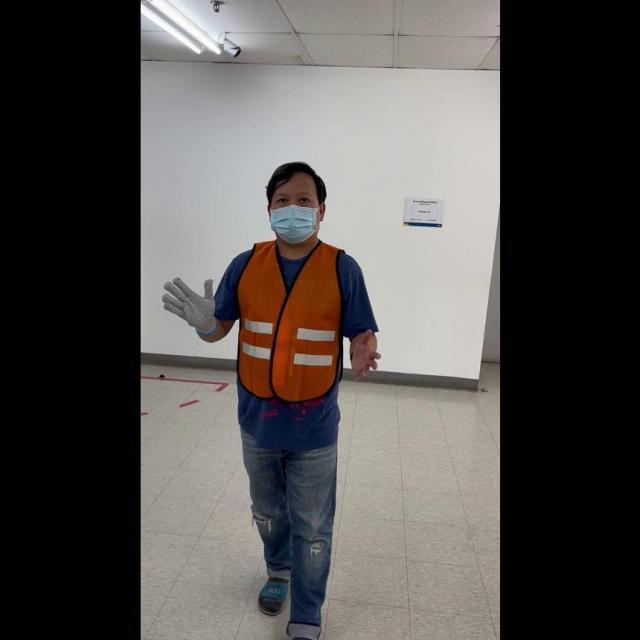bare_hand: (345, 325, 380, 381)
gloved_hand: (160, 271, 219, 336)
